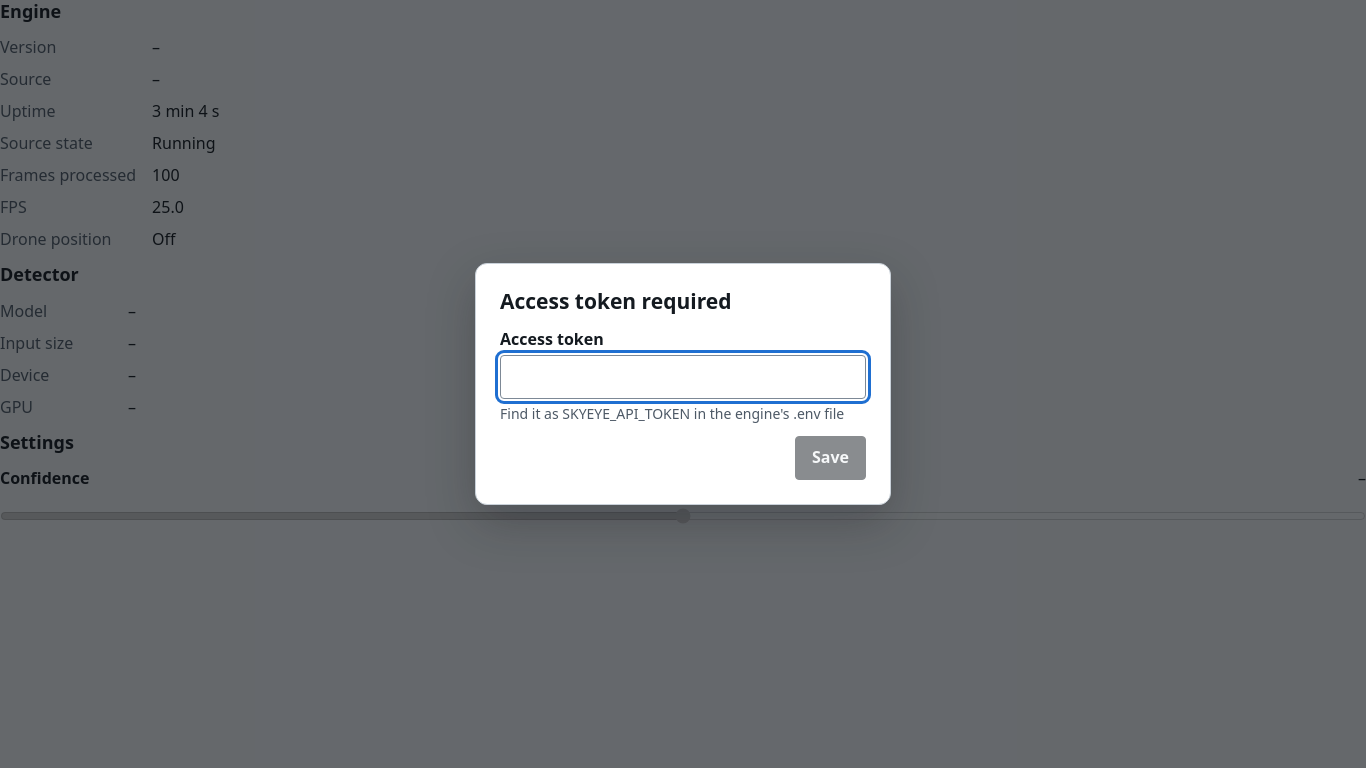
Test: saving token retries
The image size is (1366, 768).
In the password field labelled "Access token": (683, 377) x1=500 y1=355 x2=866 y2=399, type "secret"
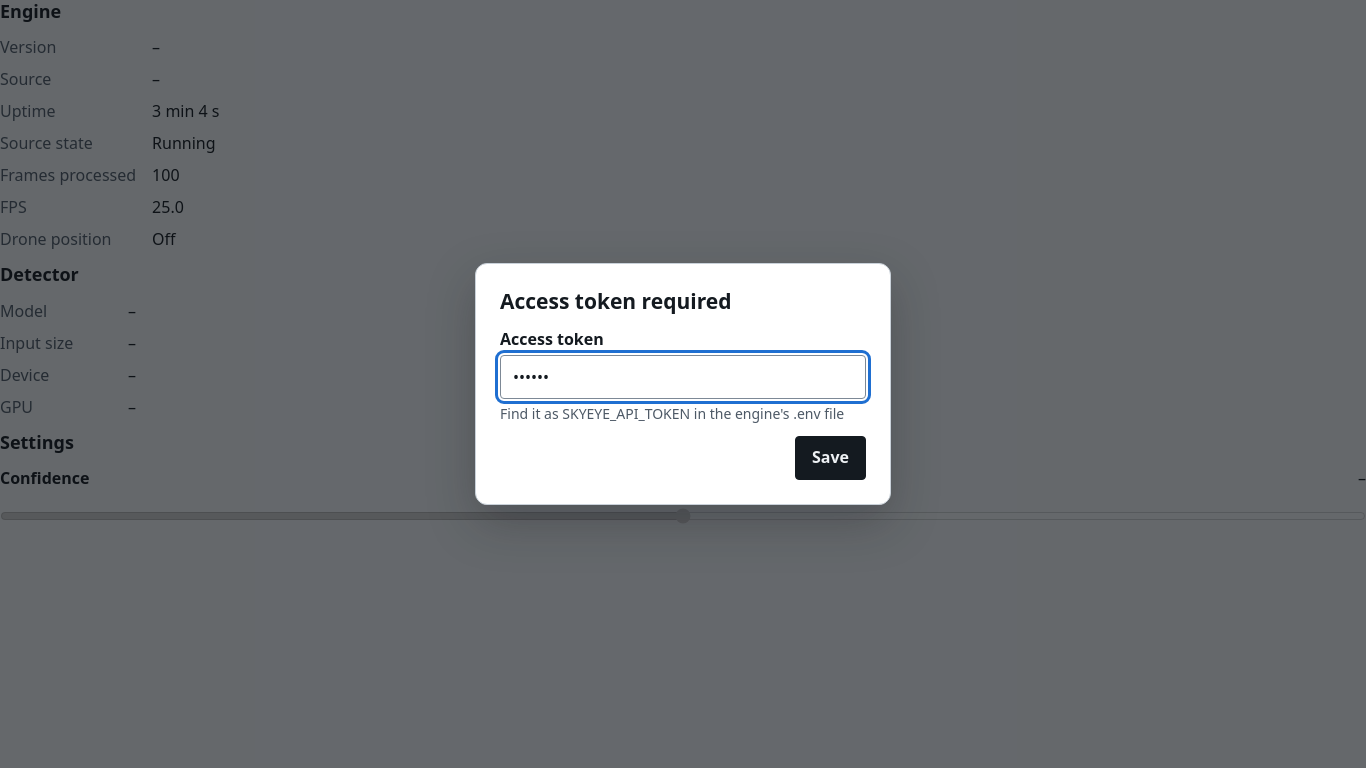
Click the button "Save": (830, 458) x1=795 y1=436 x2=866 y2=480
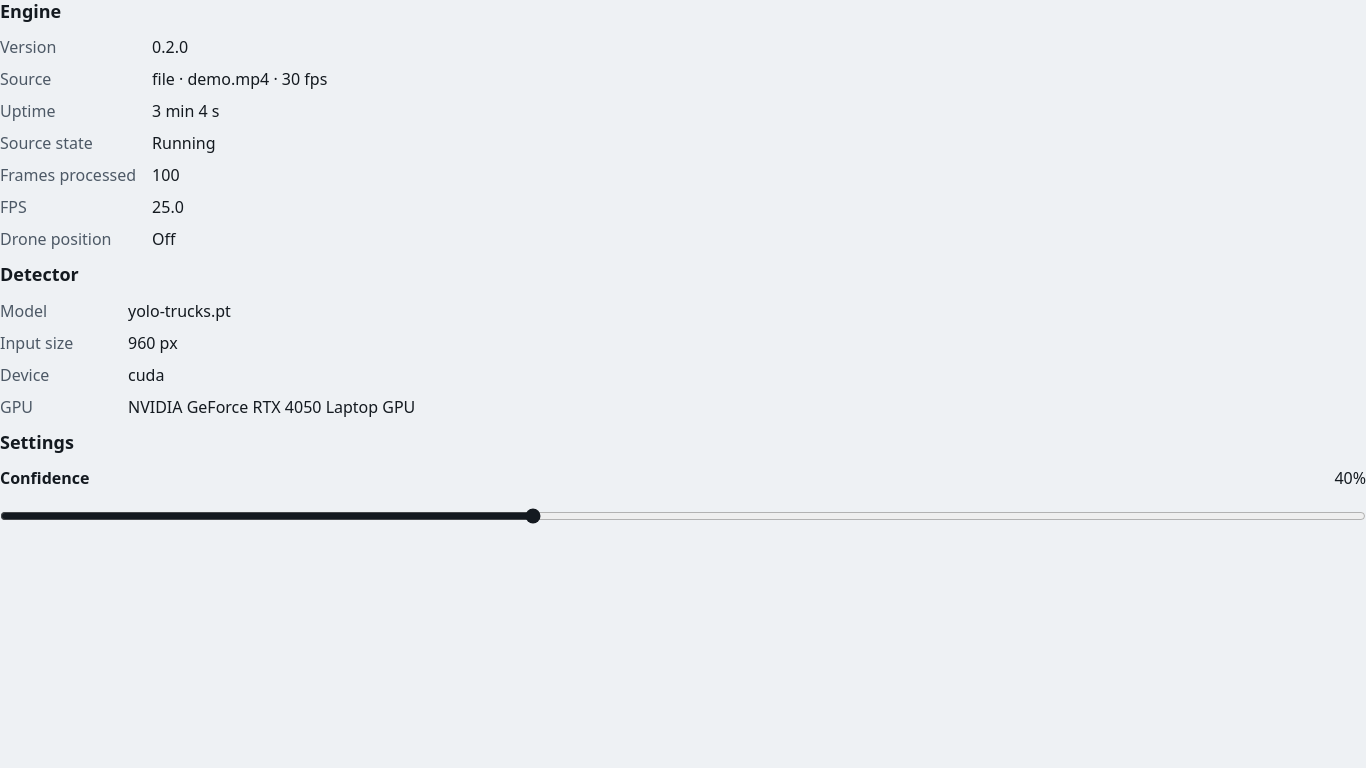
Expected: the dialog is gone
Expected: the text "0.2.0" is shown, x1=152 y1=36 x2=188 y2=58
